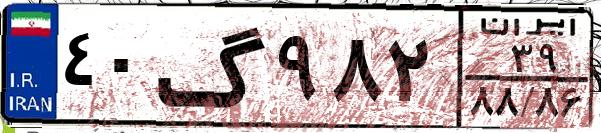0: (110, 28, 156, 98)
2: (385, 28, 445, 110)
3: (508, 27, 537, 80)
4: (57, 26, 110, 100)
6: (560, 70, 590, 125)
8: (330, 28, 385, 110), (470, 70, 495, 125), (495, 70, 520, 125), (535, 70, 560, 125)
9: (270, 28, 330, 110), (537, 27, 568, 80)
گ: (156, 12, 270, 120)
